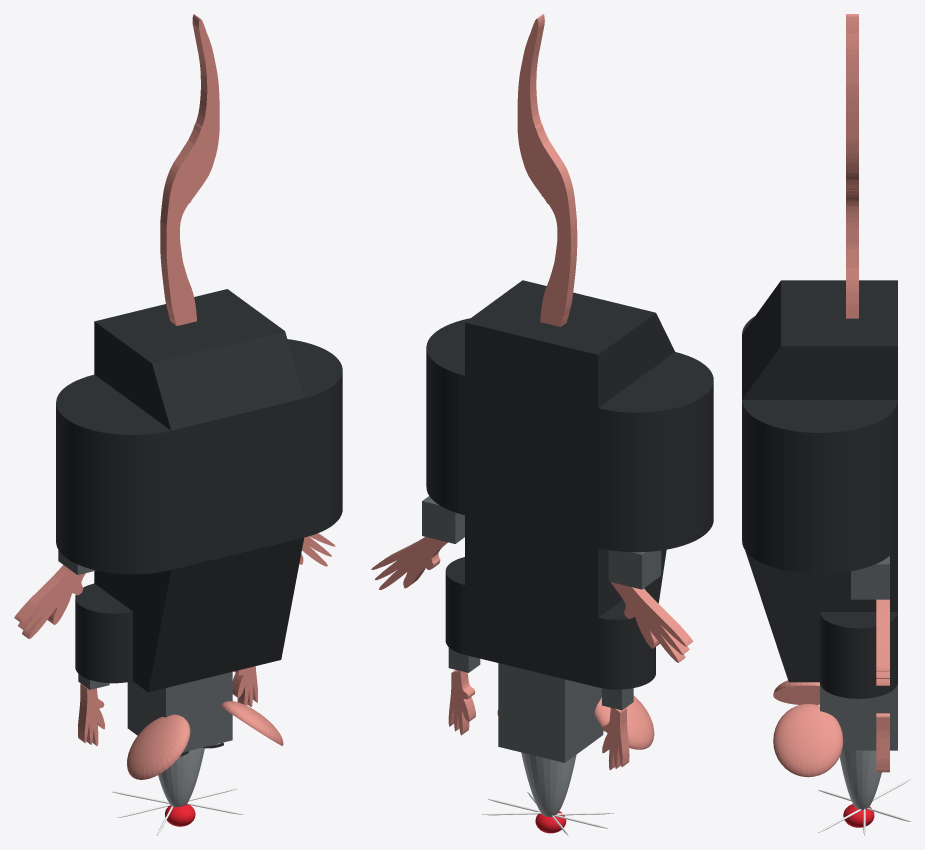
File: tinker.obj
The picture shows the model from 3 angles, left to right: view 1: azimuth 30°, elevation 25°; view 2: azimuth 150°, elevation 25°; view 3: azimuth 270°, elevation 25°; orthographic projection.
Parts seen in each view (by area): view 1: group_0_2829873, group_0_15308428, group_0_6383466, group_0_10988977, group_0_16448250; view 2: group_0_2829873, group_0_15308428, group_0_6383466, group_0_10988977, group_0_16448250; view 3: group_0_2829873, group_0_15308428, group_0_6383466, group_0_10988977, group_0_16448250, group_0_15277357.
Boxes of the visible parts, bbox=[...] form: group_0_2829873: bbox=[56, 289, 342, 756]; group_0_15308428: bbox=[14, 14, 335, 779]; group_0_6383466: bbox=[58, 550, 232, 752]; group_0_10988977: bbox=[158, 747, 204, 806]; group_0_16448250: bbox=[111, 744, 242, 835]; group_0_2829873: bbox=[426, 280, 713, 689]; group_0_15308428: bbox=[371, 14, 692, 770]; group_0_6383466: bbox=[422, 496, 661, 762]; group_0_10988977: bbox=[521, 752, 576, 816]; group_0_16448250: bbox=[482, 791, 613, 835]; group_0_2829873: bbox=[742, 280, 897, 698]; group_0_15308428: bbox=[773, 14, 889, 777]; group_0_6383466: bbox=[820, 556, 897, 750]; group_0_10988977: bbox=[839, 750, 881, 809]; group_0_16448250: bbox=[818, 779, 910, 835]; group_0_15277357: bbox=[843, 804, 874, 827].
Size of the model in its own units: 47.25 by 116 by 21.67.
